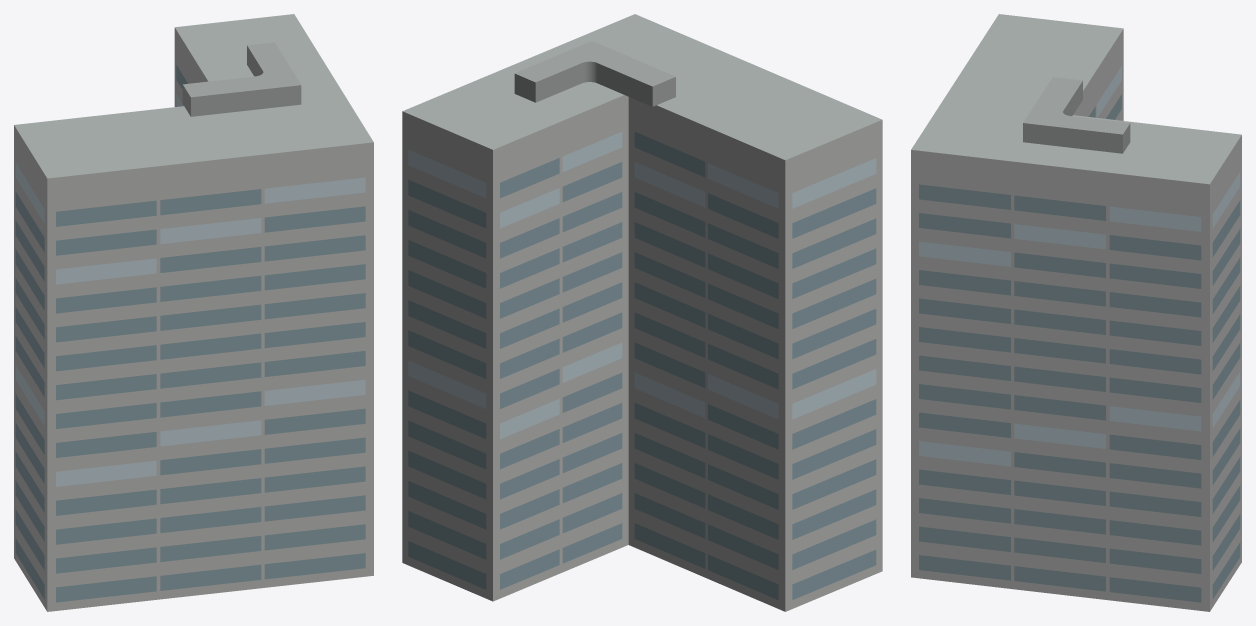
The model's file is fallback-olympic-park-foreon-425.glb.
The picture shows the model from 3 angles, left to right: view 1: azimuth 30°, elevation 25°; view 2: azimuth 150°, elevation 25°; view 3: azimuth 270°, elevation 25°; orthographic projection. The views are drawn at different scales.
Parts seen in each view (by area): view 1: fallback-olympic-park-foreon-425; view 2: fallback-olympic-park-foreon-425; view 3: fallback-olympic-park-foreon-425.
Part boxes in pixels (x1=…): fallback-olympic-park-foreon-425: x1=14, y1=14, x2=373, y2=611; fallback-olympic-park-foreon-425: x1=402, y1=14, x2=882, y2=611; fallback-olympic-park-foreon-425: x1=911, y1=14, x2=1241, y2=611.
Size of the model in its own units: 39.08 by 47.81 by 32.09.
